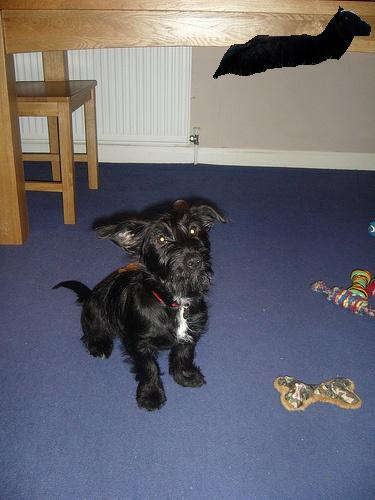tampered: (214, 7, 371, 79)
